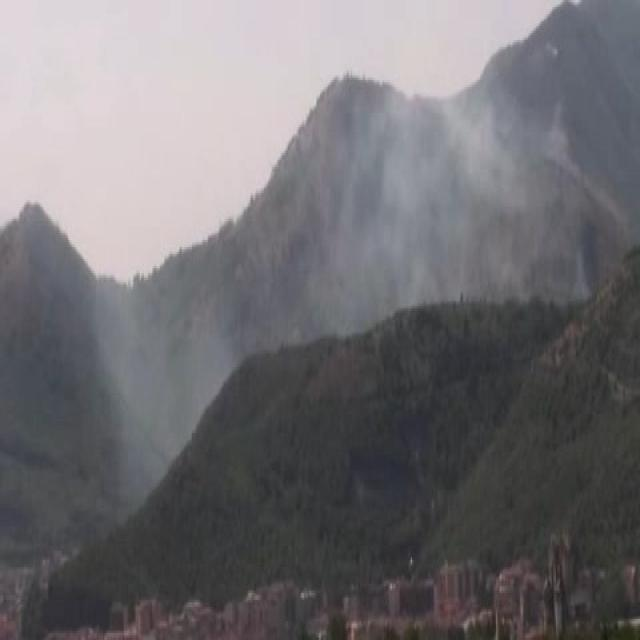Smoke: (346, 72, 518, 304)
